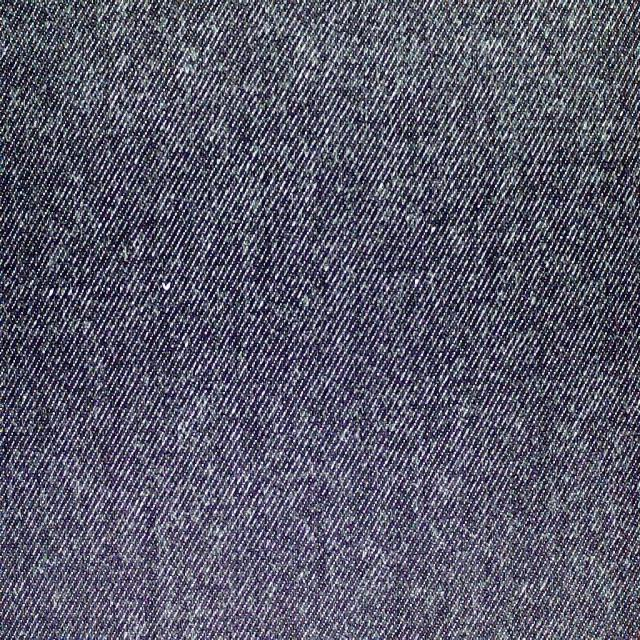pulled_or_thick_thread: (41, 280, 176, 298)
